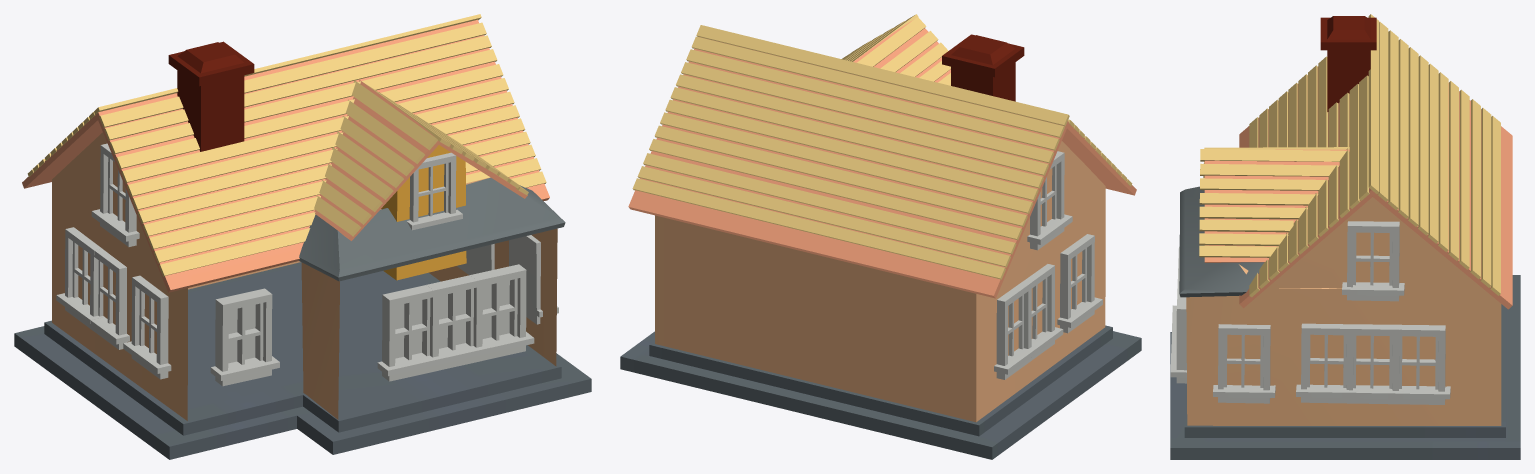
The model's file is home-1.lod.glb.
3 renders of one model, left to right at view 1: azimuth 30°, elevation 25°; view 2: azimuth 150°, elevation 25°; view 3: azimuth 270°, elevation 25°, orthographic. The views are drawn at different scales.
Visible parts, largest first — view 1: Object_2; view 2: Object_2; view 3: Object_2.
Boxes of the visible parts, <box> form: Object_2: <box>14,14,591,459</box>; Object_2: <box>620,14,1141,459</box>; Object_2: <box>1170,14,1520,459</box>.
Bounding box in the file's own units: 1.37 × 1.15 × 1.17.
Materials: 1 (1 with a texture image).
